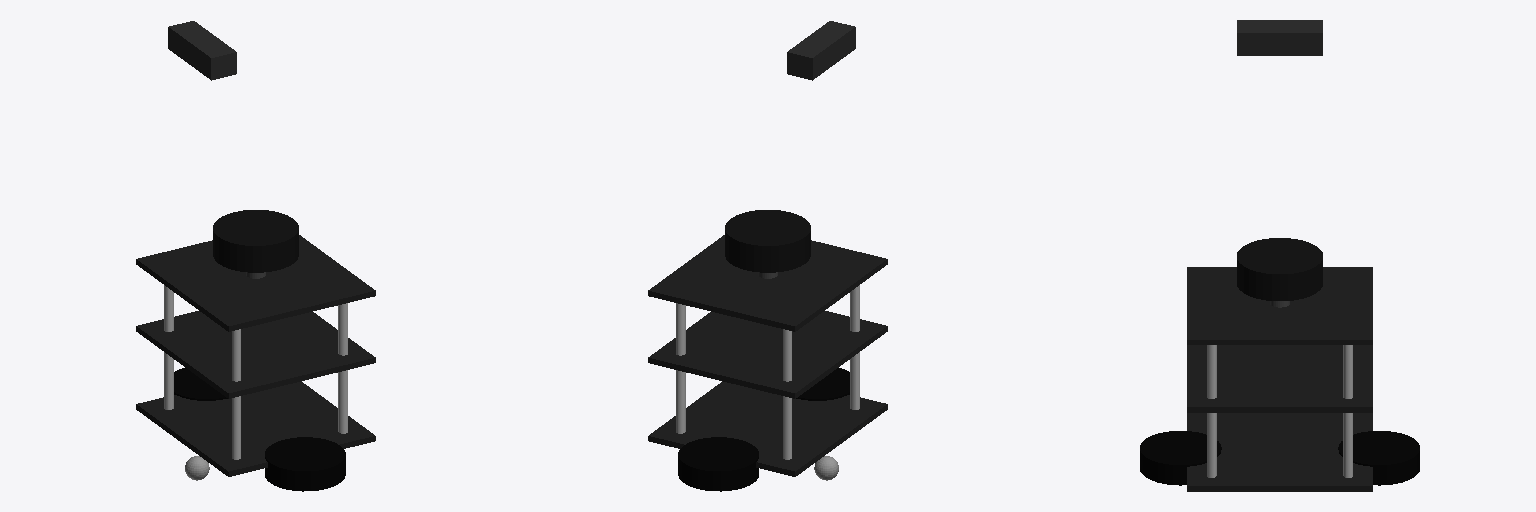
robot.urdf — turtlebot_patrol:
<?xml version="1.0" ?>
<robot name="turtlebot_patrol">

  <!-- Base footprint -->
  <link name="base_footprint"/>

  <joint name="base_joint" type="fixed">
    <parent link="base_footprint"/>
    <child link="base_link"/>
    <origin xyz="0 0 0.033" rpy="0 0 0"/>
  </joint>

  <!-- ================================================================
       BASE LINK
       MJCF:
       mass = 0.85
       CoM = (-0.025 0 0.020)
       ================================================================ -->

  <link name="base_link">
    <inertial>
      <origin xyz="-0.025 0 0.020" rpy="0 0 0"/>
      <mass value="0.85"/>
      <inertia 
        ixx="0.0022"
        ixy="0"
        ixz="0"
        iyy="0.0022"
        iyz="0"
        izz="0.0035"/>
    </inertial>

    <!-- Lower plate -->
    <visual name="base_plate_lower">
      <origin xyz="0 0 0.005" rpy="0 0 0"/>
      <geometry>
        <box size="0.138 0.150 0.005"/>
      </geometry>
      <material name="dark_gray">
        <color rgba="0.15 0.15 0.15 1"/>
      </material>
    </visual>

    <collision name="base_plate_lower_collision">
      <origin xyz="0 0 0.005" rpy="0 0 0"/>
      <geometry>
        <box size="0.138 0.150 0.005"/>
      </geometry>
    </collision>

    <!-- Middle plate -->
    <visual name="base_plate_middle">
      <origin xyz="0 0 0.075" rpy="0 0 0"/>
      <geometry>
        <box size="0.138 0.150 0.005"/>
      </geometry>
      <material name="dark_gray"/>
    </visual>

    <collision name="base_plate_middle_collision">
      <origin xyz="0 0 0.075" rpy="0 0 0"/>
      <geometry>
        <box size="0.138 0.150 0.005"/>
      </geometry>
    </collision>

    <!-- Upper plate -->
    <visual name="base_plate_upper">
      <origin xyz="0 0 0.135" rpy="0 0 0"/>
      <geometry>
        <box size="0.138 0.150 0.005"/>
      </geometry>
      <material name="dark_gray"/>
    </visual>

    <collision name="base_plate_upper_collision">
      <origin xyz="0 0 0.135" rpy="0 0 0"/>
      <geometry>
        <box size="0.138 0.150 0.005"/>
      </geometry>
    </collision>

    <!-- ================================================================
         Support pillars
         MJCF:
         radius 0.004
         length 0.13
         ================================================================ -->

    <visual name="pillar_fl">
      <origin xyz="0.05 0.055 0.07"/>
      <geometry>
        <cylinder radius="0.004" length="0.13"/>
      </geometry>
      <material name="pillar_gray">
        <color rgba="0.7 0.7 0.7 1"/>
      </material>
    </visual>

    <visual name="pillar_fr">
      <origin xyz="0.05 -0.055 0.07"/>
      <geometry>
        <cylinder radius="0.004" length="0.13"/>
      </geometry>
      <material name="pillar_gray"/>
    </visual>

    <visual name="pillar_rl">
      <origin xyz="-0.05 0.055 0.07"/>
      <geometry>
        <cylinder radius="0.004" length="0.13"/>
      </geometry>
      <material name="pillar_gray"/>
    </visual>

    <visual name="pillar_rr">
      <origin xyz="-0.05 -0.055 0.07"/>
      <geometry>
        <cylinder radius="0.004" length="0.13"/>
      </geometry>
      <material name="pillar_gray"/>
    </visual>
  </link>

  <!-- ================================================================
       LEFT DRIVE WHEEL
       MJCF:
       pos = (0 0.08 0)
       mass = 0.04
       hinge joint
       ================================================================ -->

  <link name="wheel_left_link">
    <inertial>
      <origin xyz="0 0 0" rpy="0 0 0"/>
      <mass value="0.04"/>
      <inertia
        ixx="0.00002"
        ixy="0"
        ixz="0"
        iyy="0.00002"
        iyz="0"
        izz="0.00003"/>
    </inertial>

    <visual>
      <origin xyz="0 0 0" rpy="1.570796 0 0"/>
      <geometry>
        <cylinder radius="0.033" length="0.018"/>
      </geometry>
      <material name="wheel_black">
        <color rgba="0.05 0.05 0.05 1"/>
      </material>
    </visual>

    <collision>
      <origin xyz="0 0 0" rpy="1.570796 0 0"/>
      <geometry>
        <cylinder radius="0.033" length="0.018"/>
      </geometry>
    </collision>
  </link>

  <joint name="drive_left" type="fixed">
    <parent link="base_link"/>
    <child link="wheel_left_link"/>
    <origin xyz="0 0.08 0"
            rpy="-1.570796 0 0"/>
    <axis xyz="0 0 1"/>
    <dynamics
      damping="0.005"
      friction="0.01"/>
  </joint>

  <!-- ================================================================
       RIGHT DRIVE WHEEL
       ================================================================ -->

  <link name="wheel_right_link">
    <inertial>
      <origin xyz="0 0 0" rpy="0 0 0"/>
      <mass value="0.04"/>
      <inertia
        ixx="0.00002"
        ixy="0"
        ixz="0"
        iyy="0.00002"
        iyz="0"
        izz="0.00003"/>
    </inertial>

    <visual>
      <origin xyz="0 0 0" rpy="1.570796 0 0"/>
      <geometry>
        <cylinder radius="0.033" length="0.018"/>
      </geometry>
      <material name="wheel_black"/>
    </visual>

    <collision>
      <origin xyz="0 0 0" rpy="1.570796 0 0"/>
      <geometry>
        <cylinder radius="0.033" length="0.018"/>
      </geometry>
    </collision>
  </link>

  <joint name="drive_right" type="fixed">
    <parent link="base_link"/>
    <child link="wheel_right_link"/>
    <origin xyz="0 -0.08 0"
            rpy="-1.570796 0 0"/>
    <axis xyz="0 0 1"/>
    <dynamics
      damping="0.005"
      friction="0.01"/>
  </joint>

  <!-- ================================================================
       REAR CASTER BALL
       MJCF:
       pos = (-0.055 0 -0.023)
       mass = 0.01
       ================================================================ -->

  <link name="caster_ball_link">
    <inertial>
      <origin xyz="0 0 0"/>
      <mass value="0.01"/>
      <inertia
        ixx="0.0000008"
        ixy="0"
        ixz="0"
        iyy="0.0000008"
        iyz="0"
        izz="0.0000008"/>
    </inertial>

    <visual>
      <geometry>
        <sphere radius="0.010"/>
      </geometry>
      <material name="caster_gray">
        <color rgba="0.6 0.6 0.6 1"/>
      </material>
    </visual>

    <collision>
      <geometry>
        <sphere radius="0.010"/>
      </geometry>
    </collision>
  </link>

  <joint name="caster_joint" type="fixed">
    <parent link="base_link"/>
    <child link="caster_ball_link"/>
    <origin xyz="-0.055 0 -0.023"
            rpy="0 0 0"/>
  </joint>

  <!-- ================================================================
       SENSOR TOWER
       MJCF:
       body pos="0 0 0.1375"
       ================================================================ -->

  <link name="sensor_tower_link">

    <inertial>
      <origin xyz="0 0 0.015" rpy="0 0 0"/>
      <mass value="0.05"/>
      <inertia
        ixx="0.000048"
        ixy="0"
        ixz="0"
        iyy="0.000048"
        iyz="0"
        izz="0.0000025"/>
    </inertial>

    <visual>
      <origin xyz="0 0 0.015"/>
      <geometry>
        <cylinder radius="0.008" length="0.03"/>
      </geometry>

      <material name="tower_gray">
        <color rgba="0.3 0.3 0.3 1"/>
      </material>
    </visual>
  </link>

  <joint name="sensor_tower_joint" type="fixed">
    <parent link="base_link"/>
    <child link="sensor_tower_link"/>
    <origin xyz="0 0 0.1375"
            rpy="0 0 0"/>
  </joint>

  <!-- ================================================================
       LDS-01 LiDAR
       MJCF:
       mass 0.08
       pos relative tower = 0 0 0.030
       ================================================================ -->

  <link name="lidar_link">
    <inertial>
      <origin xyz="0 0 0"/>
      <mass value="0.08"/>
      <inertia
        ixx="0.00003"
        ixy="0"
        ixz="0"
        iyy="0.00003"
        iyz="0"
        izz="0.00002"/>
    </inertial>

    <visual>
      <geometry>
        <cylinder radius="0.035" length="0.024"/>
      </geometry>

      <material name="lidar_black">
        <color rgba="0.1 0.1 0.1 1"/>
      </material>
    </visual>
  </link>

  <joint name="lidar_joint" type="fixed">
    <parent link="sensor_tower_link"/>
    <child link="lidar_link"/>
    <origin xyz="0 0 0.030"
            rpy="0 0 0"/>
  </joint>

  <!-- ================================================================
       RGB-D CAMERA
       MJCF:
       camera_body pos="-0.05 0 0.2125"
       mass 0.02
       ================================================================ -->

  <link name="camera_link">
    <inertial>
      <origin xyz="0 0 0"/>
      <mass value="0.02"/>
      <inertia
        ixx="0.000004"
        ixy="0"
        ixz="0"
        iyy="0.0000009"
        iyz="0"
        izz="0.000004"/>
    </inertial>

    <visual>
      <geometry>
        <box size="0.024 0.070 0.020"/>
      </geometry>

      <material name="camera_gray">
        <color rgba="0.2 0.2 0.2 1"/>
      </material>
    </visual>
  </link>

  <joint name="camera_joint" type="fixed">
    <parent link="sensor_tower_link"/>
    <child link="camera_link"/>
    <origin xyz="-0.05 0 0.2125"
            rpy="0 0 0"/>
  </joint>

  <!-- Camera Optical Frame (ROS Standard: X-Right, Y-Down, Z-Forward) -->
  <link name="camera_optical_frame"/>

  <joint name="camera_optical_joint" type="fixed">
    <parent link="camera_link"/>
    <child link="camera_optical_frame"/>
    <origin xyz="0 0 0"
            rpy="-1.5707963267948966 0 -1.5707963267948966"/>
  </joint>

  <!-- ================================================================
       IMU
       ================================================================ -->

  <link name="imu_link">
    <inertial>
      <origin xyz="0 0 0"/>
      <mass value="0.001"/>
      <inertia
        ixx="0.000001"
        ixy="0"
        ixz="0"
        iyy="0.000001"
        iyz="0"
        izz="0.000001"/>
    </inertial>
  </link>

  <joint name="imu_joint" type="fixed">
    <parent link="sensor_tower_link"/>
    <child link="imu_link"/>
    <origin xyz="0 0 0.005"
            rpy="0 0 0"/>
  </joint>

  <!-- ================================================================
       ROS2 CONTROL
       MJCF actuator 대응
       ================================================================ -->

  <ros2_control name="turtlebot_drive"
                type="system">

    <hardware>
      <plugin>
        diff_drive_controller/DiffDriveController
      </plugin>
    </hardware>

    <joint name="drive_left">
      <command_interface name="velocity"/>
      <state_interface name="position"/>
      <state_interface name="velocity"/>
    </joint>

    <joint name="drive_right">
      <command_interface name="velocity"/>
      <state_interface name="position"/>
      <state_interface name="velocity"/>
    </joint>
  </ros2_control>
</robot>

--- Facts derived from the render (not from the file) ---
Views: 3 orthographic renders of the robot side by side, from view 1: azimuth 30°, elevation 25°; view 2: azimuth 150°, elevation 25°; view 3: azimuth 270°, elevation 25°.
Model turtlebot_patrol with 10 links and 9 joints (9 fixed), rooted at base_footprint, posed all joints at 0.
Visible links, largest first — view 1: base_link, lidar_link, wheel_right_link, camera_link, wheel_left_link; view 2: base_link, lidar_link, wheel_left_link, camera_link, wheel_right_link; view 3: base_link, lidar_link, camera_link, wheel_left_link, wheel_right_link.
Boxes of the visible links, x1,y1,x2,y2 form: base_link: [136, 235, 375, 476]; lidar_link: [213, 210, 298, 272]; wheel_right_link: [265, 437, 345, 491]; camera_link: [168, 21, 236, 80]; wheel_left_link: [174, 368, 227, 400]; base_link: [648, 235, 887, 476]; lidar_link: [725, 210, 810, 272]; wheel_left_link: [678, 437, 758, 491]; camera_link: [787, 21, 855, 80]; wheel_right_link: [796, 368, 849, 400]; base_link: [1187, 267, 1372, 491]; lidar_link: [1237, 238, 1322, 300]; camera_link: [1237, 20, 1322, 55]; wheel_left_link: [1338, 431, 1419, 485]; wheel_right_link: [1140, 431, 1221, 485].
Bounding box of the posed robot: 0.138 × 0.226 × 0.393 m (x, y, z).
Geometry: primitives only (box / cylinder / sphere), no mesh files.
